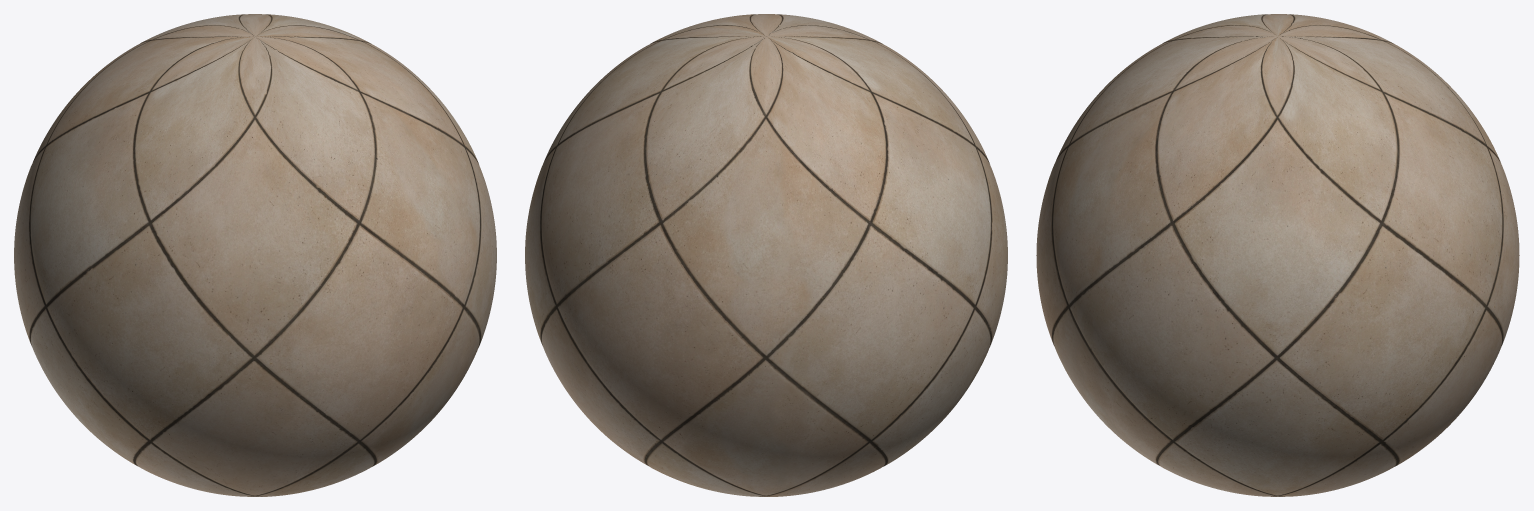
Rendered from interior_tiles_1k.gltf.
3 renders of one model, left to right at view 1: azimuth 30°, elevation 25°; view 2: azimuth 150°, elevation 25°; view 3: azimuth 270°, elevation 25°, orthographic.
Parts seen in each view (by area): view 1: sphere_gltf; view 2: sphere_gltf; view 3: sphere_gltf.
Part boxes in pixels (box(x1,y1,x2,y2)): sphere_gltf: box(14, 14, 496, 496); sphere_gltf: box(525, 14, 1007, 496); sphere_gltf: box(1036, 14, 1519, 496).
Bounding box in the file's own units: 1.9 × 1.9 × 1.9.
1 material, 1 textured.
